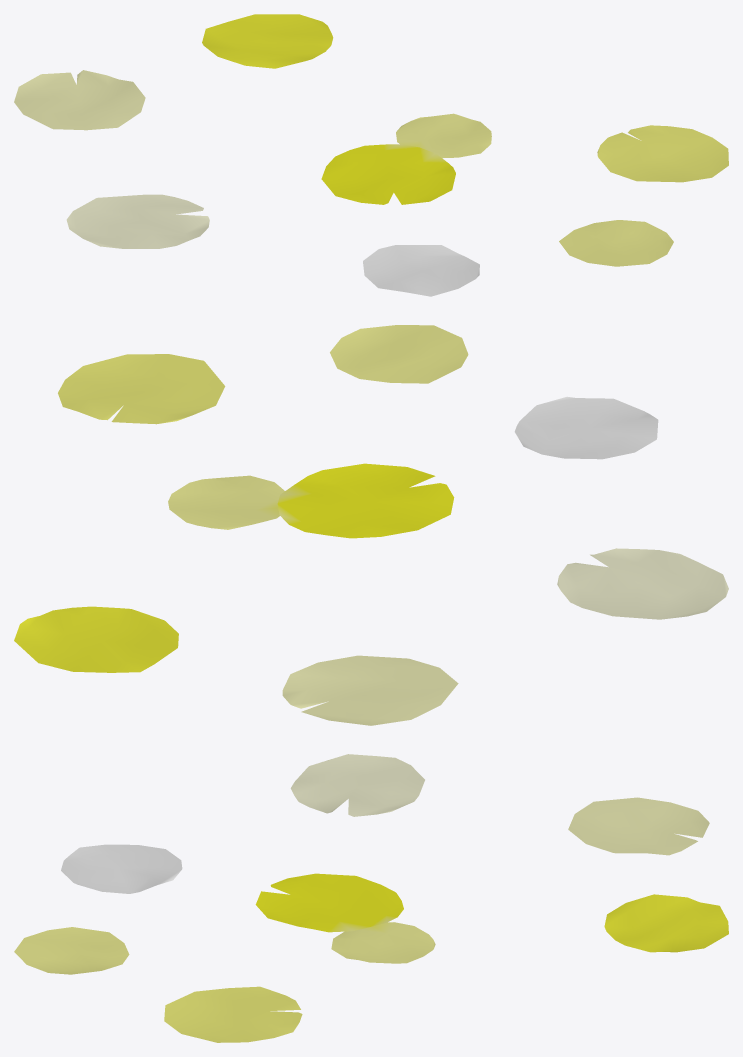
The model's file is Rembrandt_Water_Lily_uc2kajgia_High_uc2kajgia_VarB_LOD0.fbx.
3 views of the same model, one above another, from view 1: azimuth 30°, elevation 25°; view 2: azimuth 150°, elevation 25°; view 3: azimuth 270°, elevation 25° (orthographic). The views are drawn at different scales.
Parts seen in each view (by area): view 1: _be43_VarB_LOD0; view 2: _be43_VarB_LOD0; view 3: _be43_VarB_LOD0.
Boxes of the visible parts, bbox=[...] form: _be43_VarB_LOD0: bbox=[14, 14, 728, 296]; _be43_VarB_LOD0: bbox=[14, 325, 728, 725]; _be43_VarB_LOD0: bbox=[14, 754, 728, 1042].
Size of the model in its own units: 127 by 1.48 by 135.
